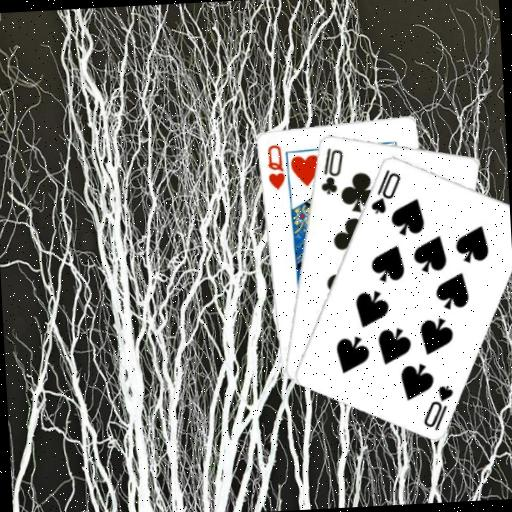10C: (315, 144, 346, 197)
10S: (418, 381, 457, 433), (365, 165, 404, 215)
QH: (263, 141, 287, 192)
